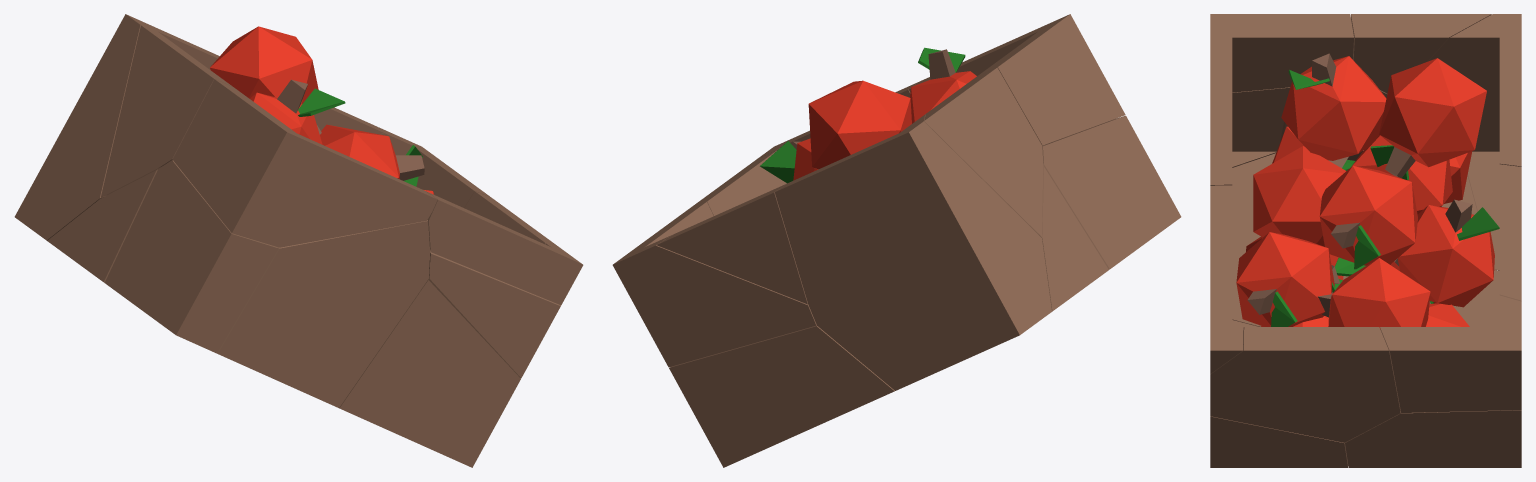
File: AppleBoxBroken.fbx
3 views of the same model, side by side, from view 1: azimuth 30°, elevation 25°; view 2: azimuth 150°, elevation 25°; view 3: azimuth 270°, elevation 25° (orthographic). The views are drawn at different scales.
Visible parts, largest first — view 1: Cube.004_cell.003, Cube.004_cell.010, Cube.004_cell, Cube.004_cell.011, Cube.004_cell.007, Cube.004_cell.002, Cube.004_cell.009, Cube.004_cell.008, Icosphere.015, Icosphere.013, Cube.004_cell.001, Icosphere.014 (+2 smaller); view 2: Cube.004_cell.007, Cube.004_cell.006, Cube.004_cell.001, Cube.004_cell.011, Cube.004_cell.010, Cube.004_cell.002, Cube.004_cell.005, Icosphere.015, Cube.004_cell.003, Cube.004_cell.009, Icosphere.014, Cube.028 (+1 smaller); view 3: Cube.004_cell.009, Cube.004_cell.001, Cube.004_cell.010, Cube.004_cell.006, Cube.004_cell.007, Icosphere.015, Icosphere.014, Icosphere.013, Icosphere.012, Icosphere.009, Icosphere.005, Cube.004_cell.002 (+16 smaller).
Boxes of the visible parts, bbox=[...] form: Cube.004_cell.003: bbox=[47, 169, 430, 407]; Cube.004_cell.010: bbox=[172, 79, 437, 247]; Cube.004_cell: bbox=[339, 280, 520, 467]; Cube.004_cell.011: bbox=[105, 160, 278, 353]; Cube.004_cell.007: bbox=[14, 14, 219, 240]; Cube.004_cell.002: bbox=[101, 25, 232, 197]; Cube.004_cell.009: bbox=[428, 191, 565, 378]; Cube.004_cell.008: bbox=[427, 192, 583, 305]; Icosphere.015: bbox=[210, 26, 321, 134]; Icosphere.013: bbox=[320, 124, 424, 180]; Cube.004_cell.001: bbox=[378, 127, 489, 207]; Icosphere.014: bbox=[250, 79, 322, 144]; Cube.004_cell.007: bbox=[775, 114, 1051, 390]; Cube.004_cell.006: bbox=[669, 325, 894, 467]; Cube.004_cell.001: bbox=[612, 202, 816, 367]; Cube.004_cell.011: bbox=[1042, 115, 1181, 268]; Cube.004_cell.010: bbox=[909, 14, 1125, 145]; Cube.004_cell.002: bbox=[924, 67, 1043, 236]; Cube.004_cell.005: bbox=[657, 183, 807, 304]; Icosphere.015: bbox=[808, 80, 911, 169]; Cube.004_cell.003: bbox=[1039, 145, 1109, 311]; Cube.004_cell.009: bbox=[682, 150, 786, 215]; Icosphere.014: bbox=[910, 49, 976, 123]; Cube.028: bbox=[760, 141, 796, 183]; Cube.004_cell.009: bbox=[1210, 327, 1400, 442]; Cube.004_cell.001: bbox=[1380, 294, 1521, 412]; Cube.004_cell.010: bbox=[1210, 14, 1353, 185]; Cube.004_cell.006: bbox=[1345, 270, 1521, 467]; Cube.004_cell.007: bbox=[1429, 14, 1521, 270]; Icosphere.015: bbox=[1379, 58, 1486, 177]; Icosphere.014: bbox=[1281, 53, 1386, 160]; Icosphere.013: bbox=[1319, 165, 1417, 265]; Icosphere.012: bbox=[1236, 232, 1334, 326]; Icosphere.009: bbox=[1397, 199, 1494, 307]; Icosphere.005: bbox=[1253, 146, 1348, 246]; Cube.004_cell.002: bbox=[1351, 14, 1491, 93].
Bounding box in the file's own units: 132 × 118 × 90.87.
